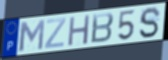5: (117, 9, 135, 41)
B: (90, 11, 116, 45)
H: (66, 14, 91, 48)
M: (18, 18, 46, 53)
S: (138, 6, 162, 40)
Z: (44, 17, 68, 50)
